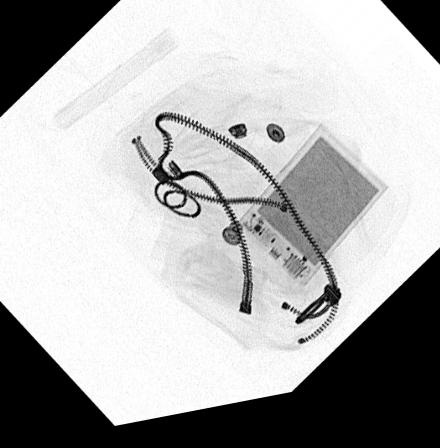Powerbank: (236, 136, 389, 300)
